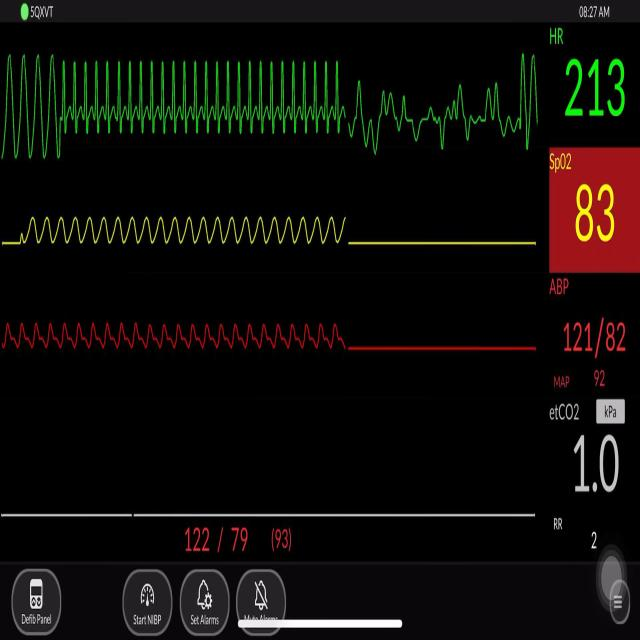danger: (60, 43, 348, 150), (5, 40, 54, 160)
